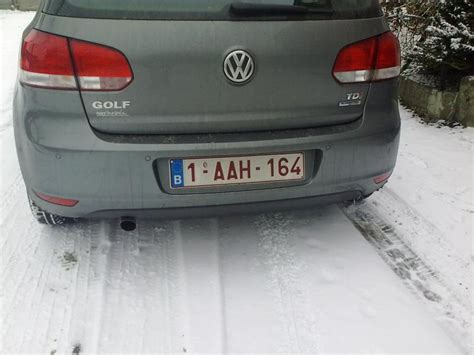licenceplate: (169, 154, 305, 186)
